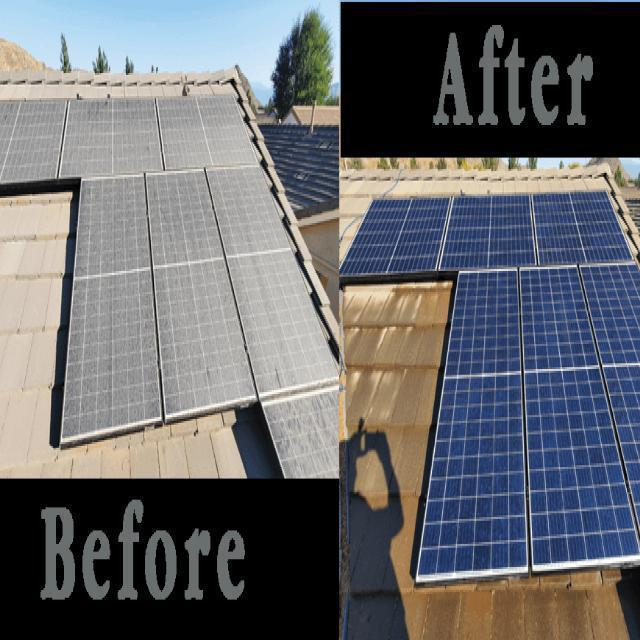Anomaly Solar Panel: (60, 268, 163, 442), (225, 247, 339, 398), (153, 257, 259, 417), (205, 166, 292, 258), (73, 174, 151, 276), (145, 170, 225, 267), (261, 385, 340, 480), (262, 385, 340, 479), (0, 100, 67, 184), (196, 93, 260, 167), (156, 96, 213, 172), (59, 99, 112, 179), (111, 98, 164, 177)
Normal Solar Panel: (416, 372, 528, 580), (525, 370, 640, 571), (517, 265, 601, 373), (444, 270, 522, 377), (602, 364, 640, 531), (580, 263, 639, 367), (339, 199, 412, 275), (388, 197, 451, 273), (570, 191, 634, 263), (532, 192, 588, 266), (439, 195, 492, 269), (490, 194, 536, 268)
Surface Contaminant: (61, 263, 162, 440), (228, 247, 338, 401), (152, 257, 255, 415), (204, 160, 290, 258), (72, 173, 149, 277), (264, 383, 339, 479), (145, 171, 222, 263), (196, 88, 257, 163), (58, 97, 110, 179), (157, 95, 211, 169), (111, 99, 162, 177)
